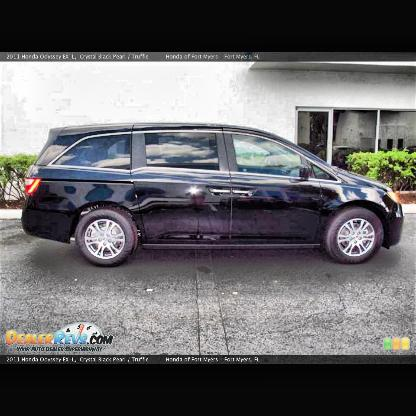Honda Odyssey Minivan 2012: (22, 125, 406, 269)
